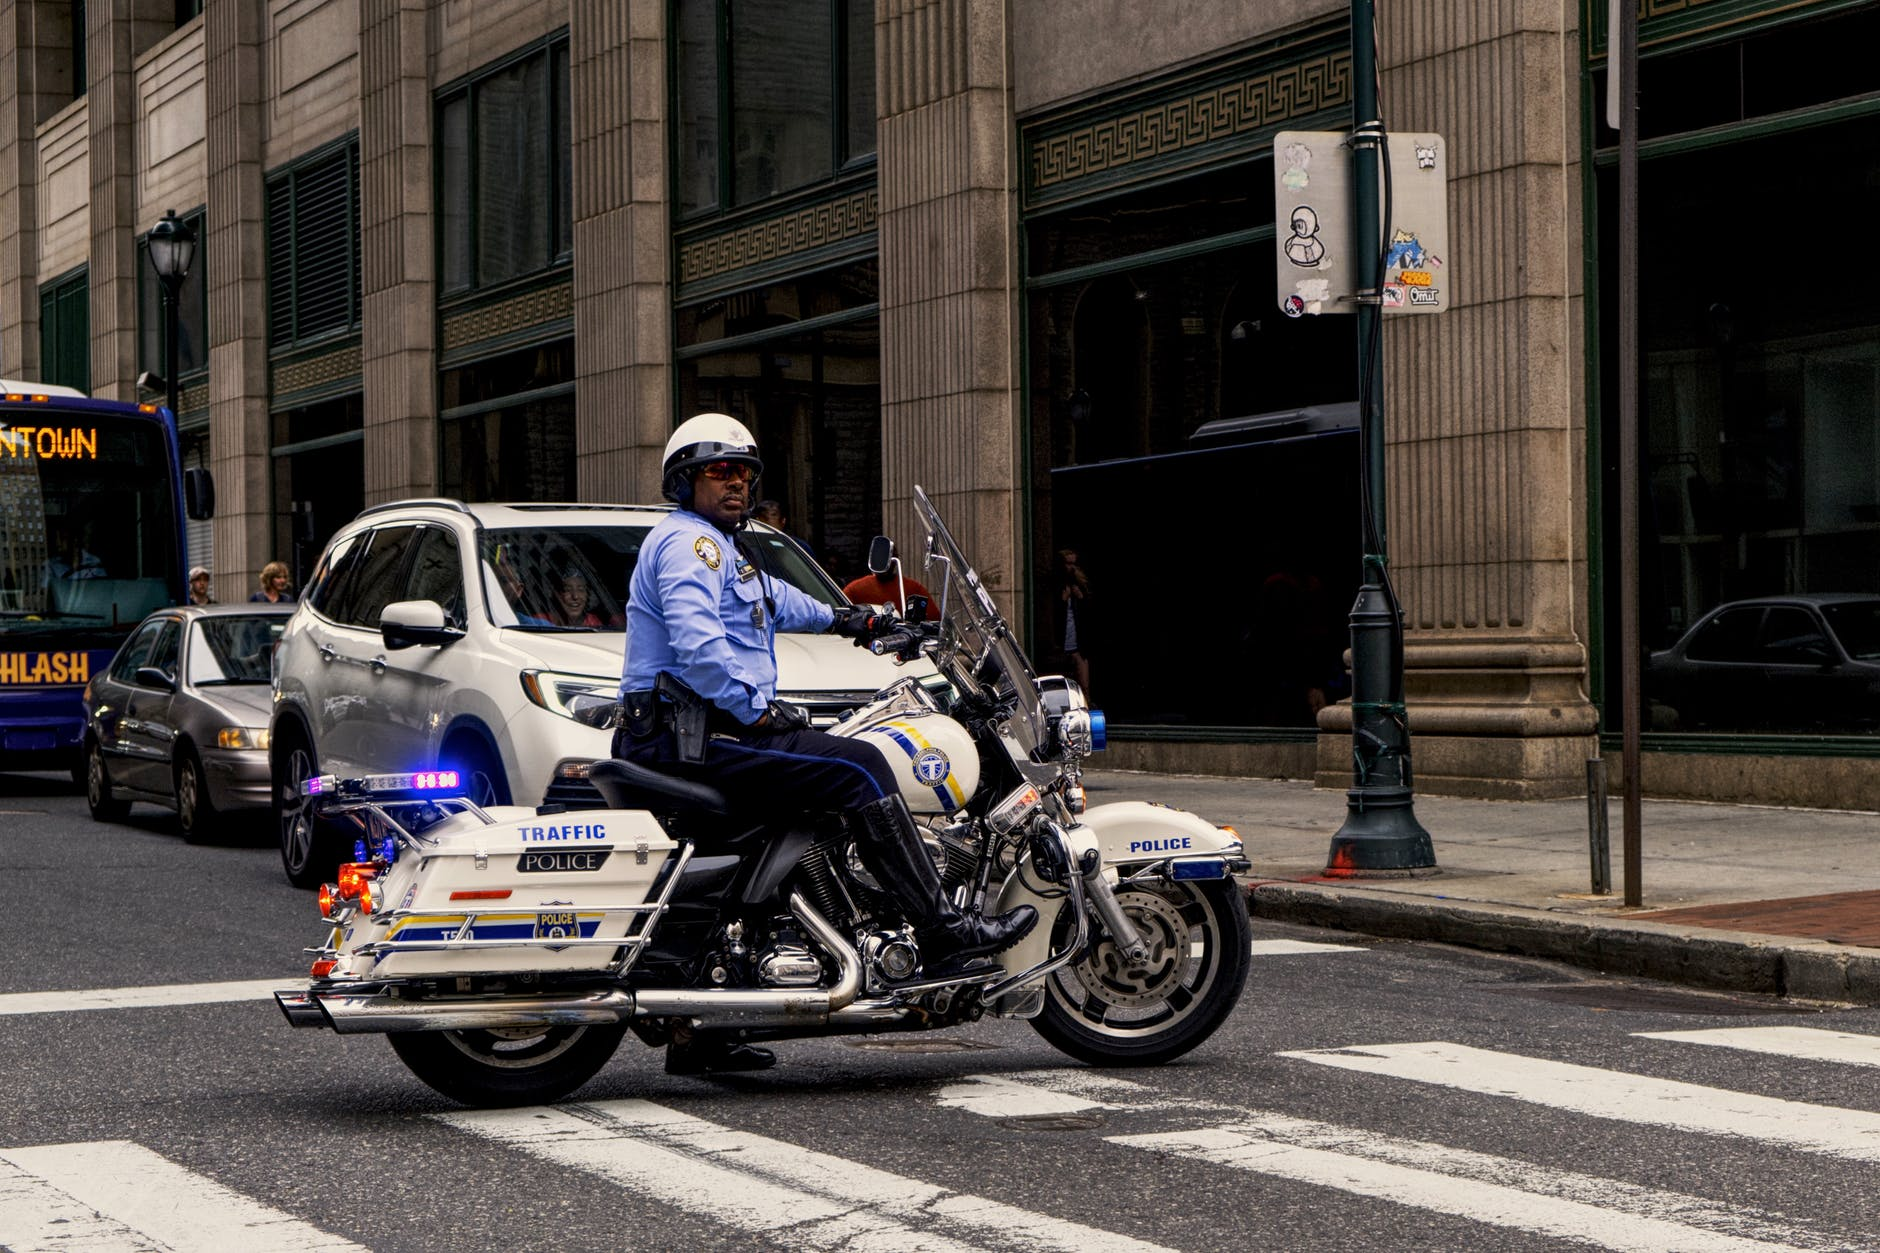helmet: (642, 407, 769, 484)
